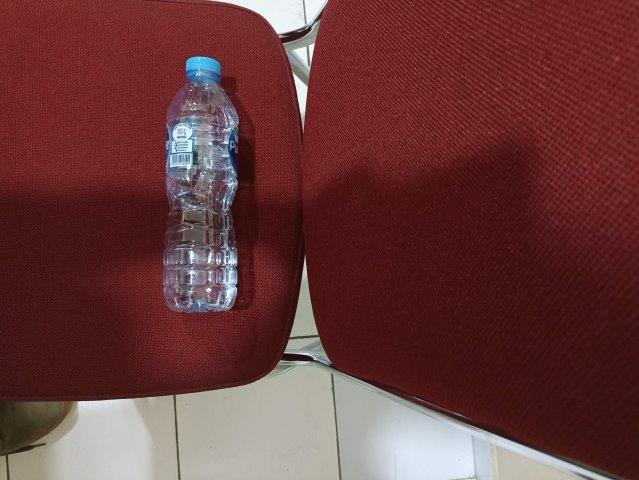botolplastik: (164, 54, 237, 314)
